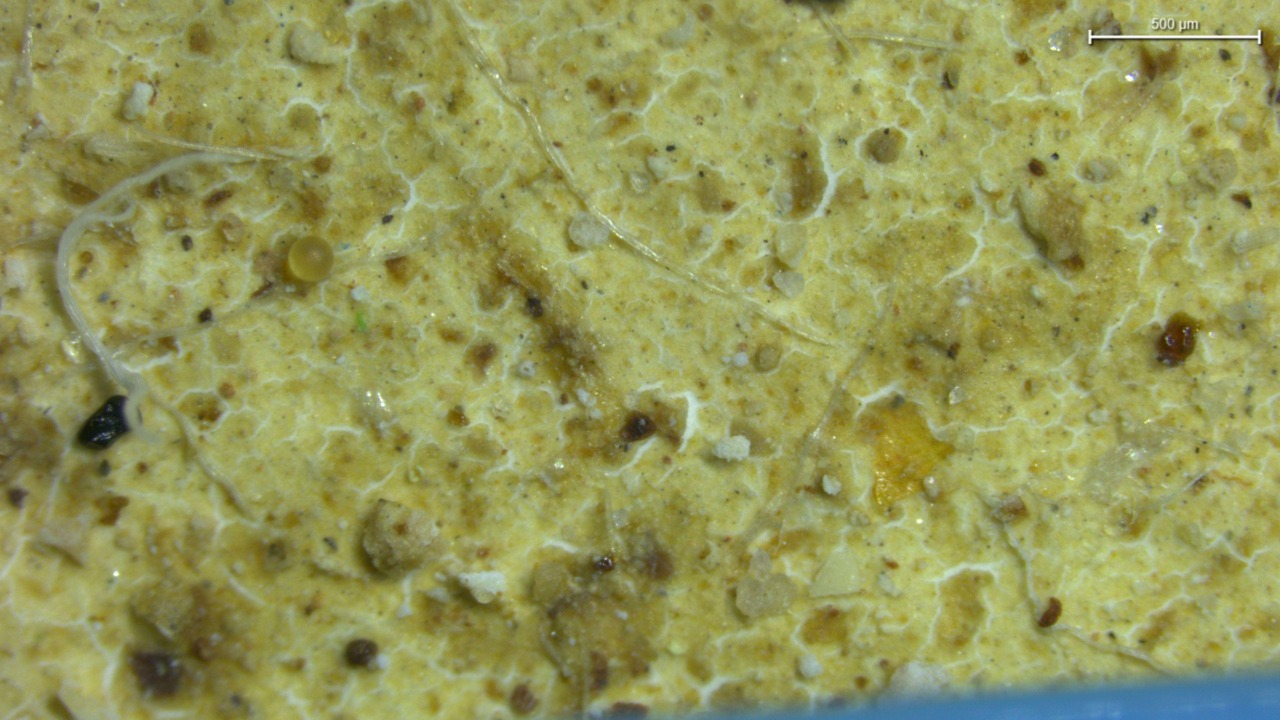microplastic_fragment: (1012, 178, 1087, 273), (361, 499, 444, 575), (288, 24, 343, 65), (712, 435, 751, 461)
